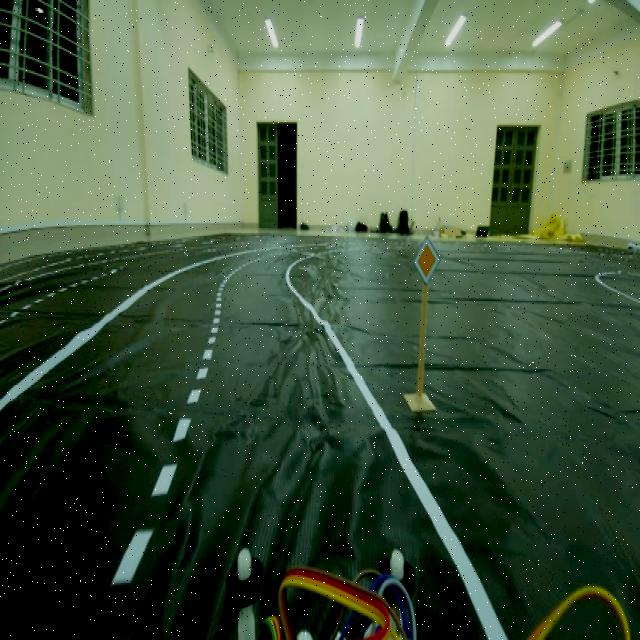priority: (413, 233, 441, 291)
